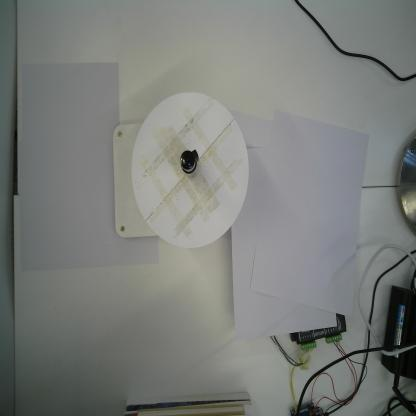Stationery: (180, 148, 200, 179)
